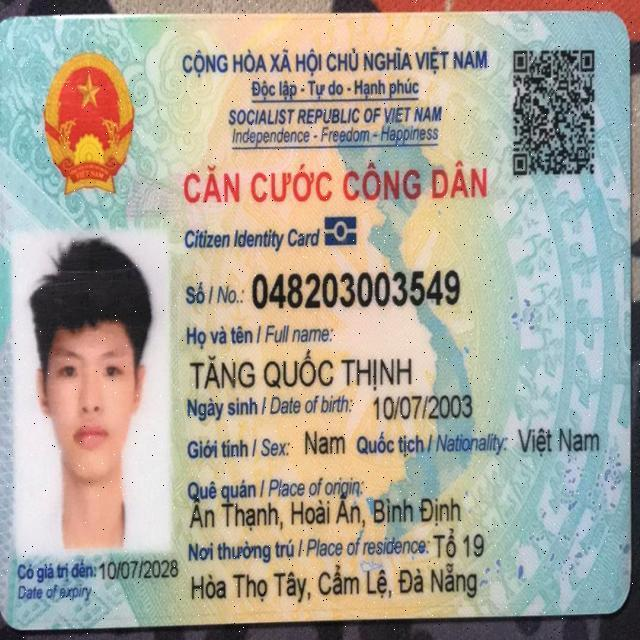current_place: (189, 559, 481, 606), (431, 526, 488, 564)
dob: (367, 392, 478, 425)
expire_date: (97, 557, 181, 583)
gender: (300, 424, 350, 460)
id: (249, 261, 465, 316)
name: (188, 351, 420, 393)
nationality: (516, 424, 601, 460)
origin_place: (184, 490, 466, 530)
